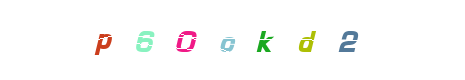0: (152, 0, 232, 80)
2: (306, 0, 386, 80)
6: (144, 0, 224, 80)
C: (192, 0, 272, 80)
D: (267, 0, 347, 80)
K: (223, 0, 303, 80)
P: (63, 0, 143, 80)
